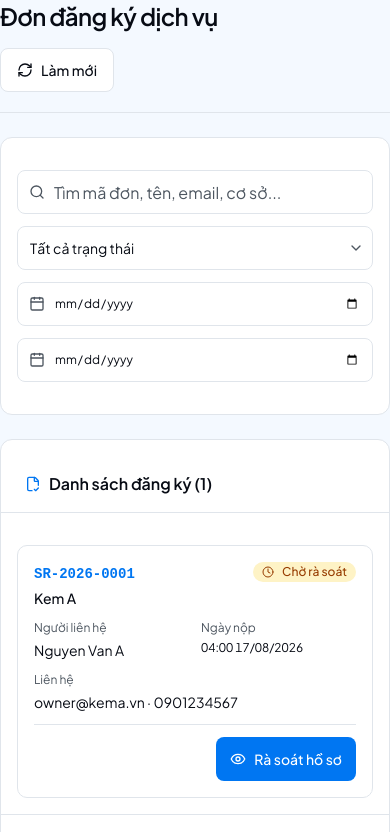
Test: ServiceRegistrationsView component › opens detail drawer when clicking on item reference code
The width and height of the screenshot is (390, 832).
Click the button "SR-2026-0001" at point(84, 574), box [34,564,135,584]
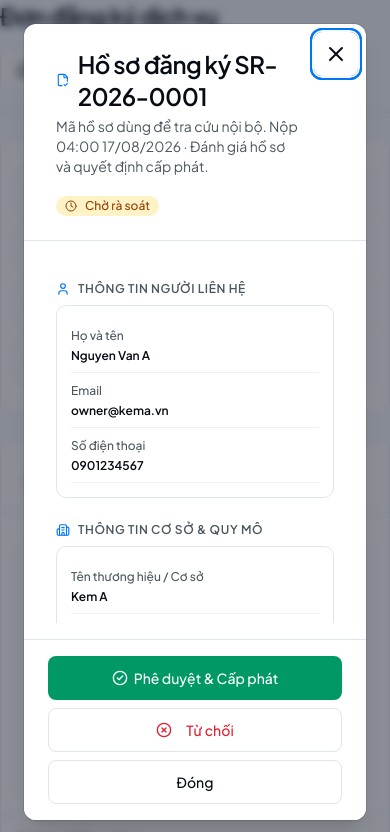
Check: the text "Thông tin cơ sở & Quy mô" is shown, box [56,522,263,537]
